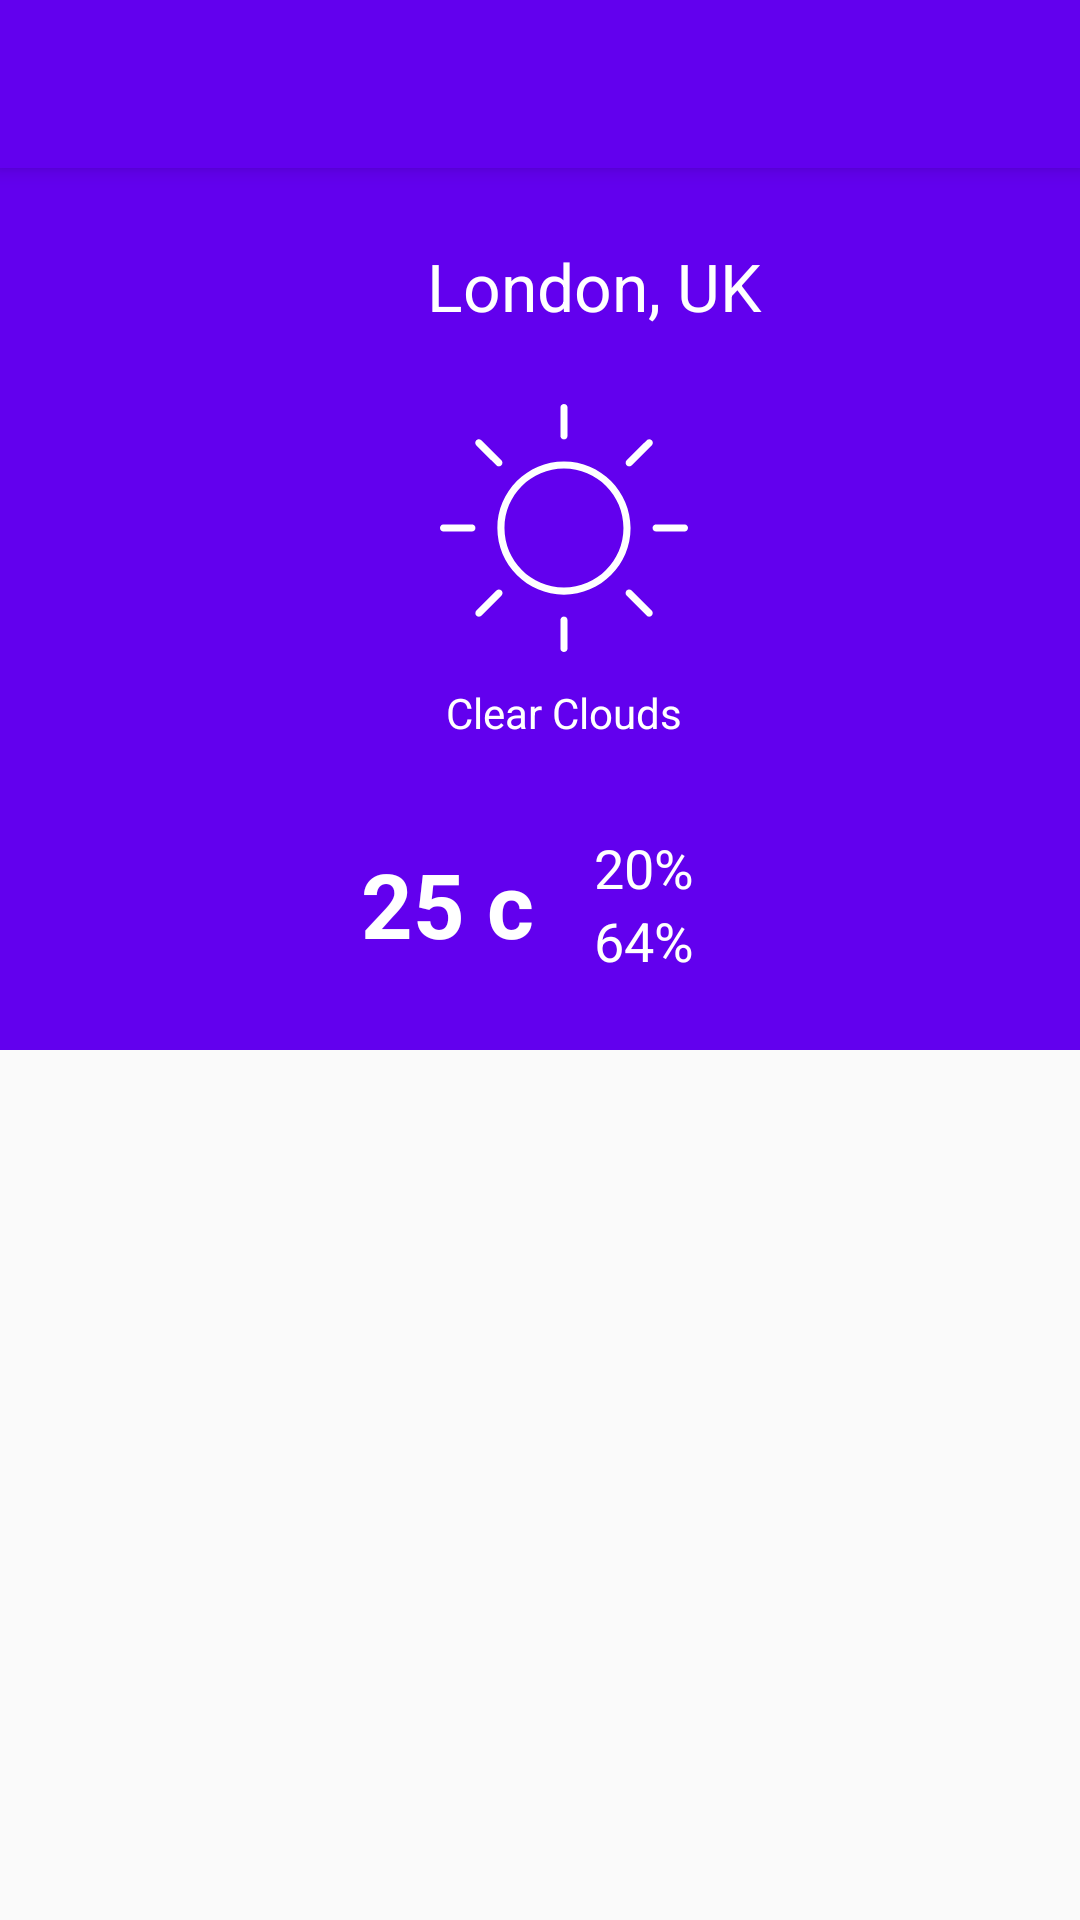

Screen size 1080*1920. Icon name, then its center in pixels as [x,y]:
Weather Icon: [564,528]
